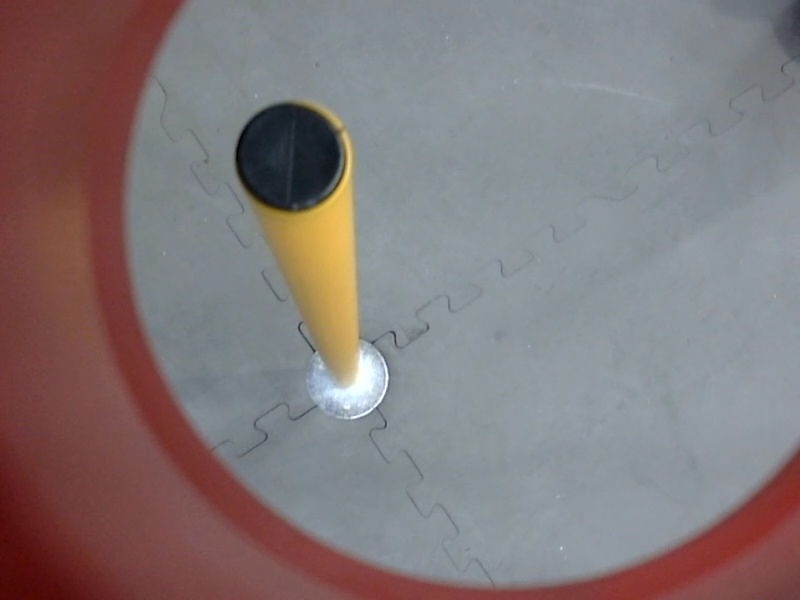tip: (225, 92, 356, 223)
